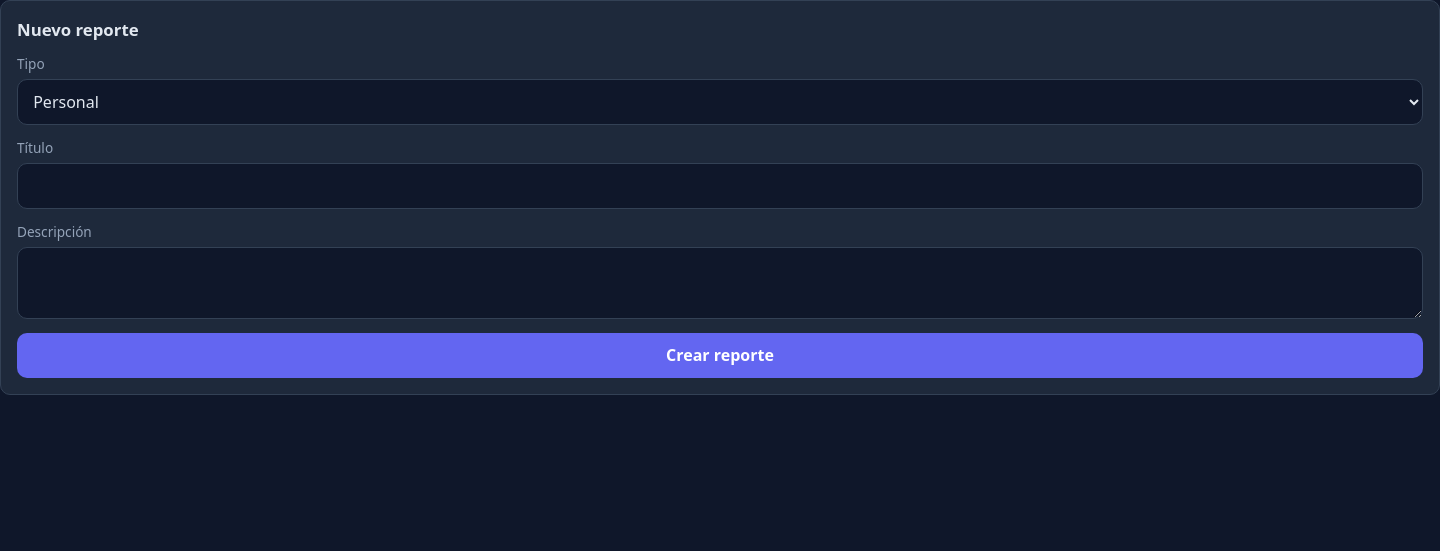
Test: ReportForm › bloquea un reporte vehicular sin vehículo seleccionado
Select "Vehicular" in the dropdown labelled "Tipo" at point(720, 102), box [17,79,1423,125]
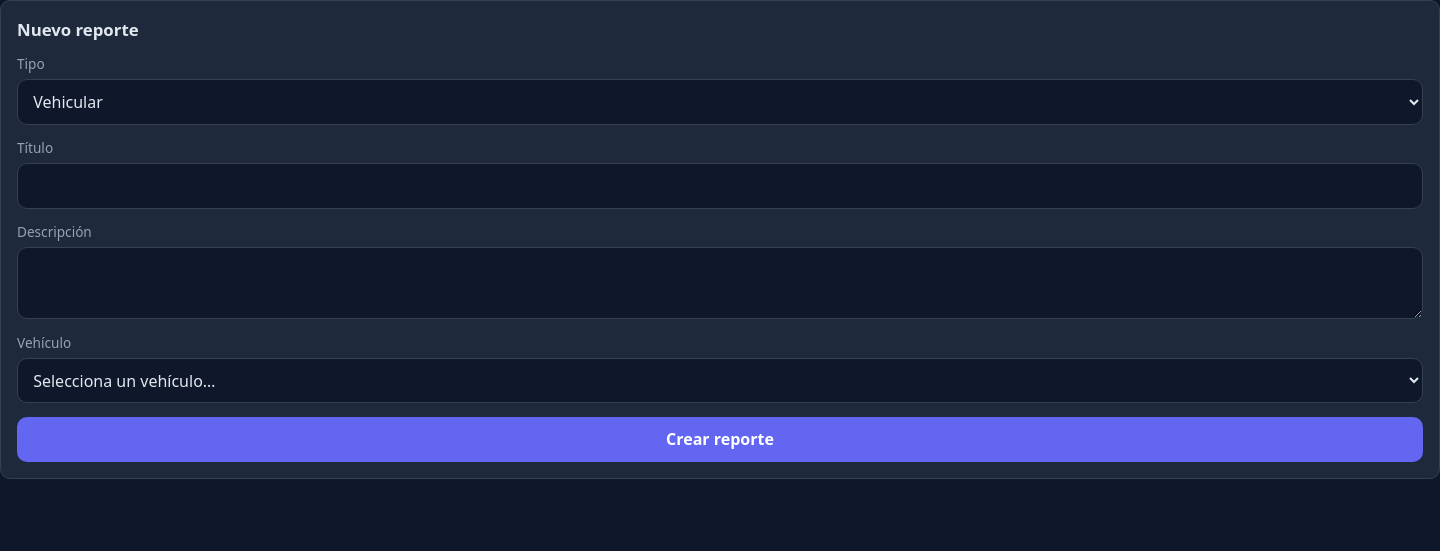
Type "Aceite" into the field labelled "Título" at point(720, 186), box [17,163,1423,208]
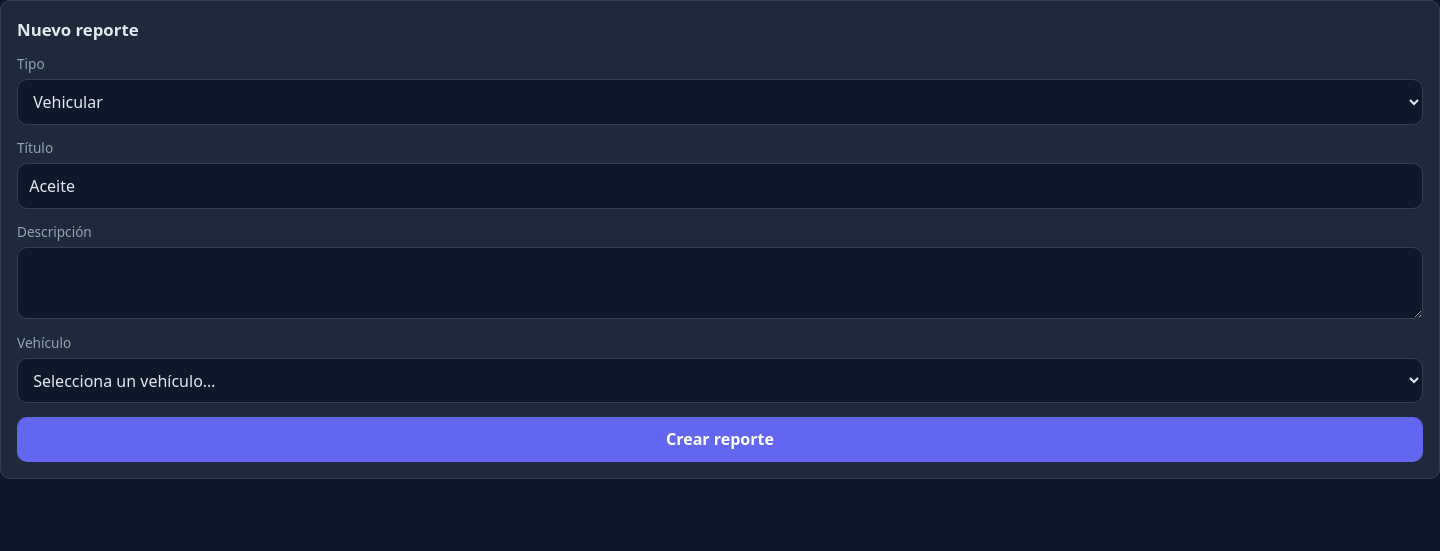
Type "10000 km" into the text box labelled "Descripción" at point(720, 283), box [17,247,1423,319]
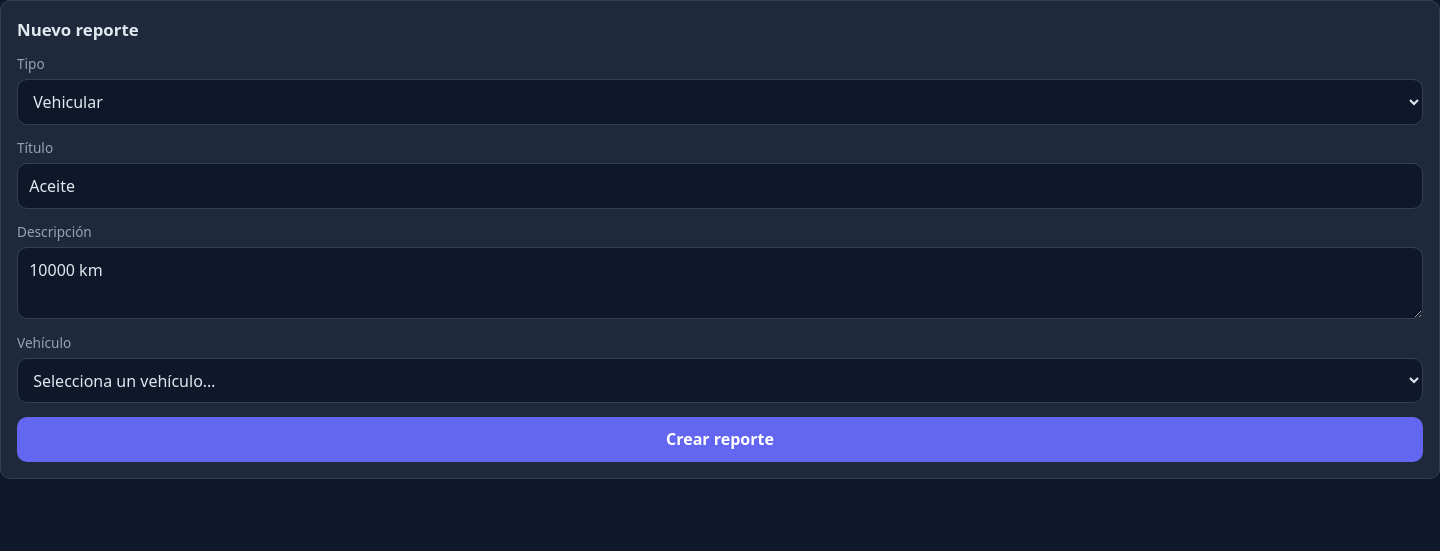
Click the button "Crear reporte" at point(720, 439), box [17,417,1423,462]
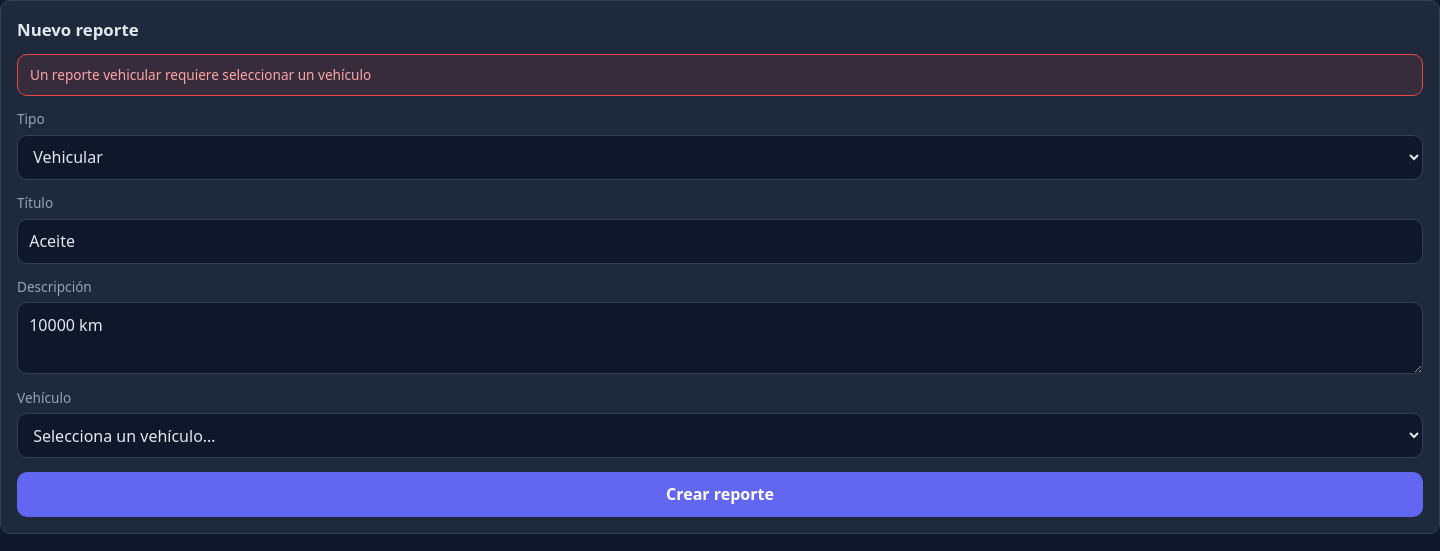
Expected: the message shows "requiere seleccionar un vehículo", [30,65,371,84]
